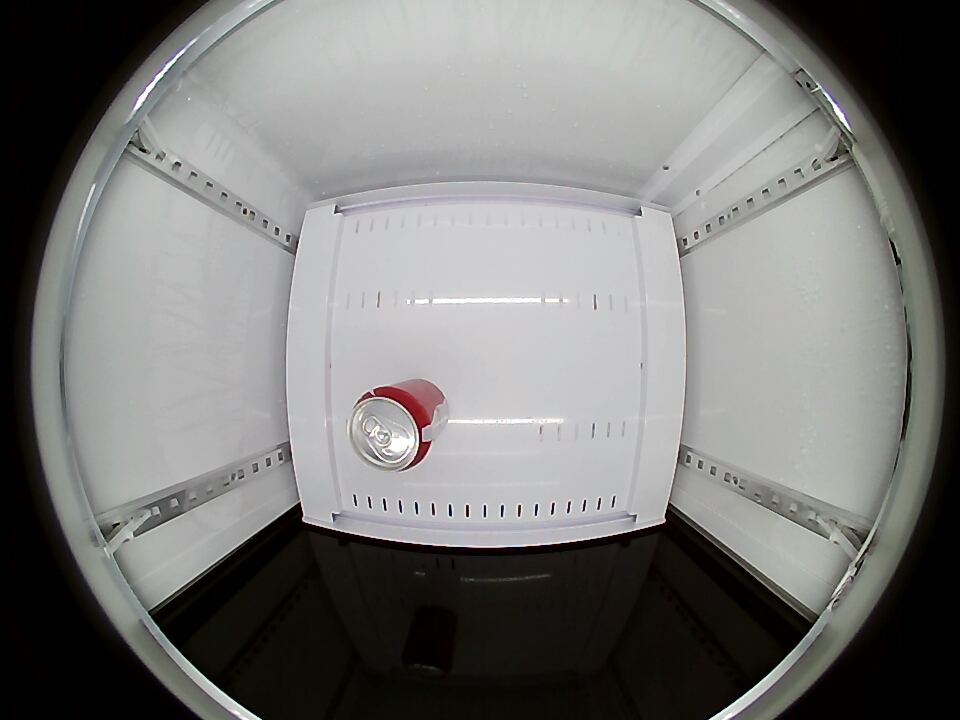kele: (348, 384, 437, 472)
